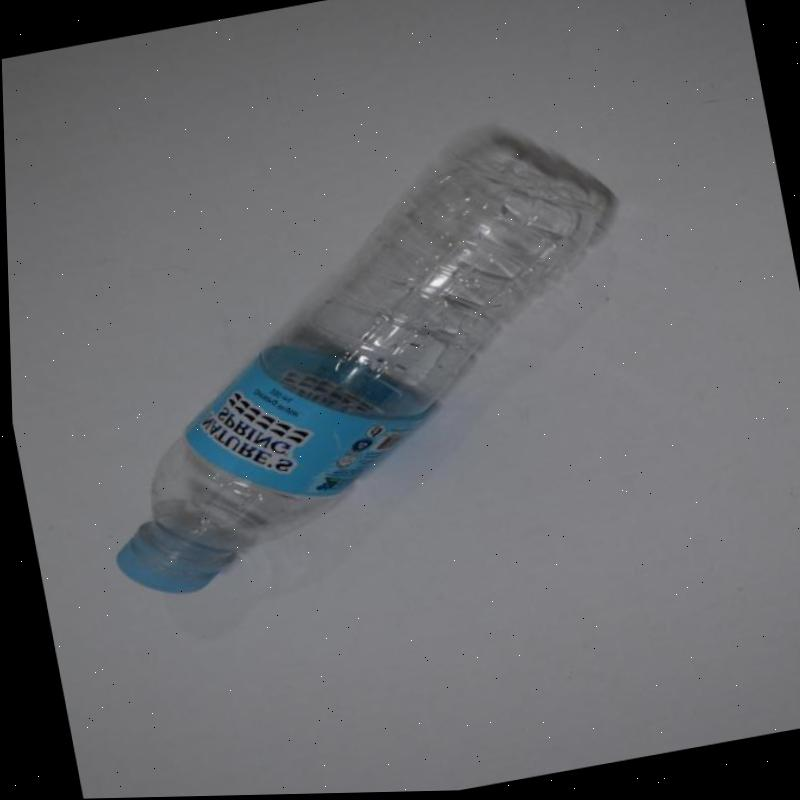botella: (48, 122, 668, 606)
